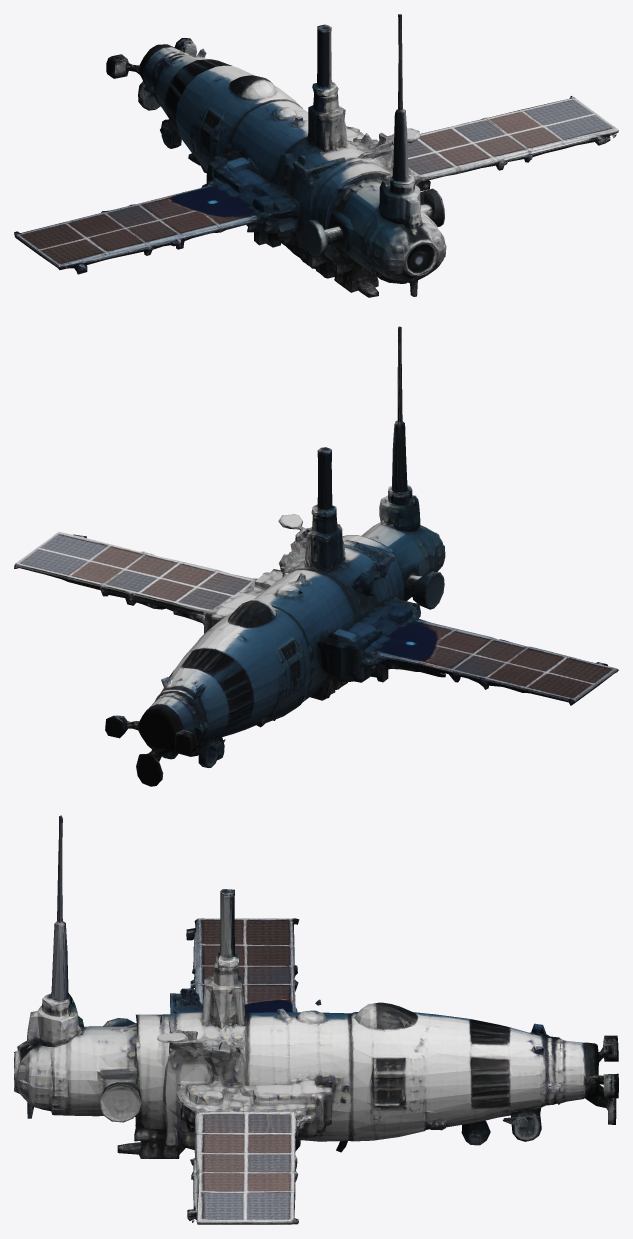
Rendered from probe.obj.
The picture shows the model from 3 angles, top to bottom: view 1: azimuth 30°, elevation 25°; view 2: azimuth 150°, elevation 25°; view 3: azimuth 270°, elevation 25°; orthographic projection. The views are drawn at different scales.
Parts seen in each view (by area): view 1: obj1; view 2: obj1; view 3: obj1.
Boxes of the visible parts, x1,y1,x2,y2 form: obj1: (14, 14, 618, 297); obj1: (14, 326, 618, 786); obj1: (14, 815, 618, 1224).
Bounding box in the file's own units: 0.9909 × 0.519 × 0.836.
1 material, 1 textured.
